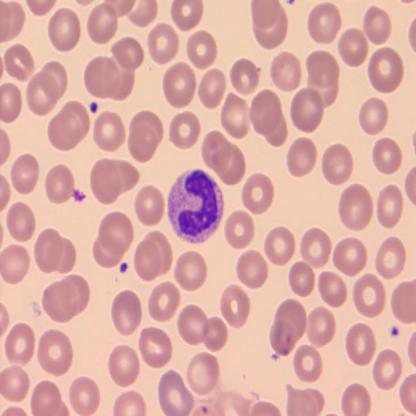Band Neutrophil: (166, 165, 224, 241)
